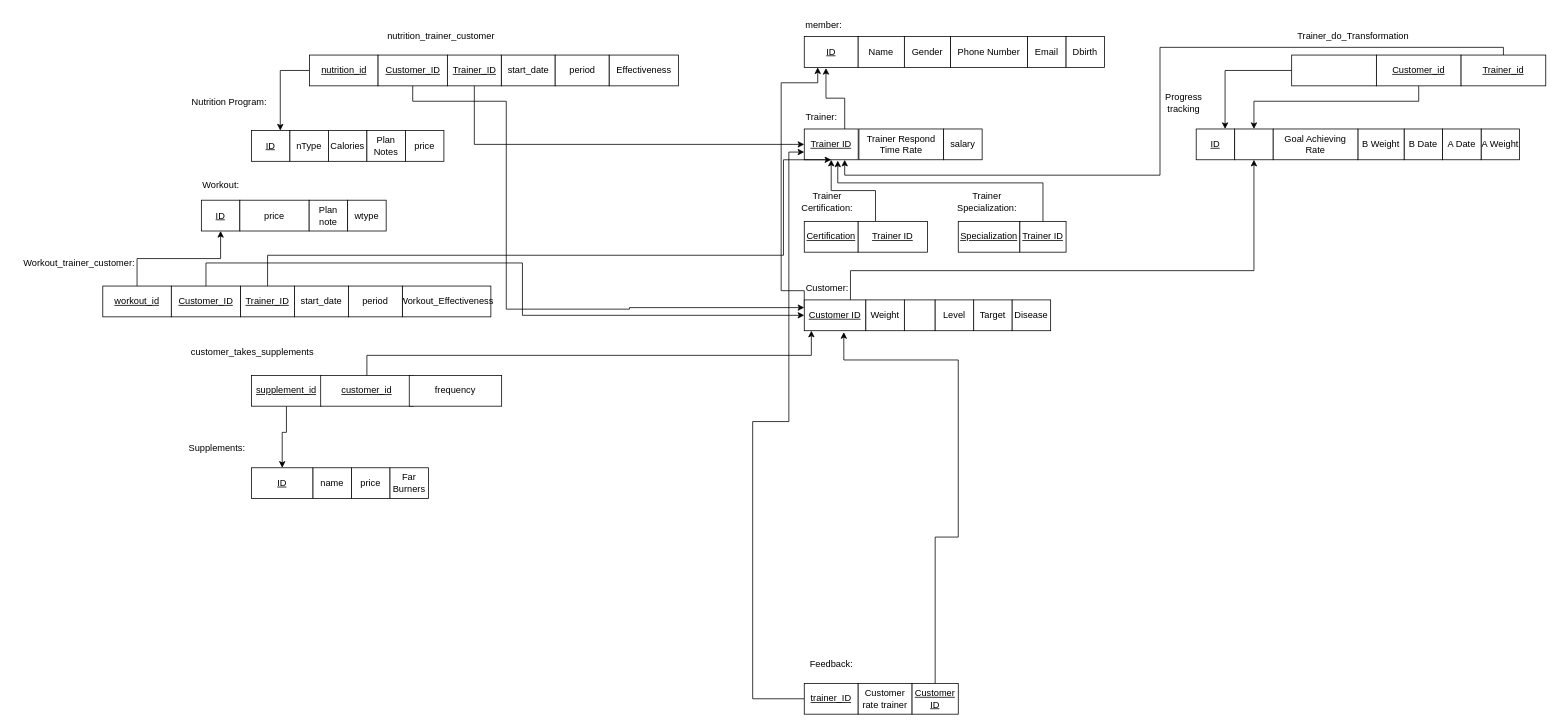
This 1559x728 diagram has some shape labels left out. Each missing label, with the centre of its shape:
"Cust ID" belongs at pixel 1253 144.
"Height" belongs at pixel 919 315.
"Transformation_id" belongs at pixel 1333 70.
